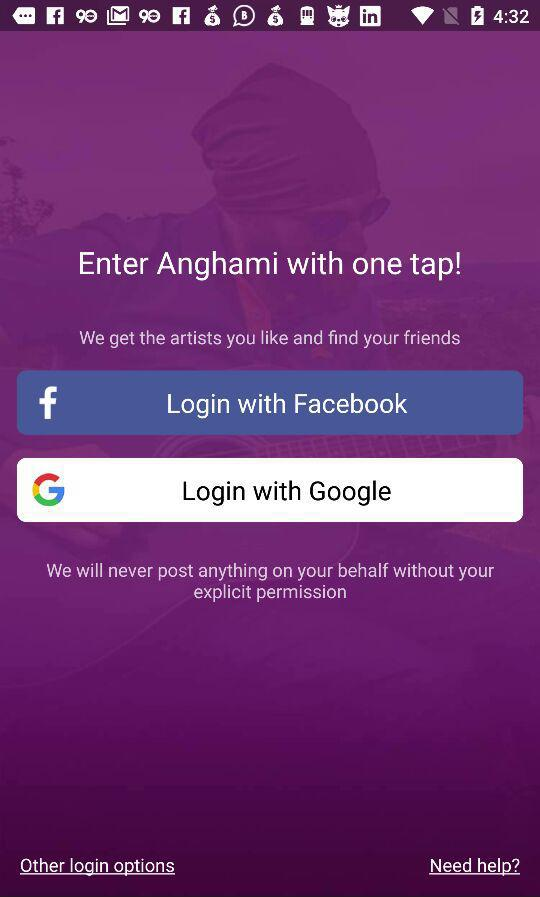BackgroundImage: (1, 32, 540, 897)
Text: (47, 562, 495, 603), (80, 250, 462, 283), (80, 329, 461, 350), (19, 857, 177, 877), (428, 857, 521, 877)
TextButton: (17, 370, 524, 435), (17, 458, 523, 523)
UpperTaskBar: (1, 1, 540, 32)
